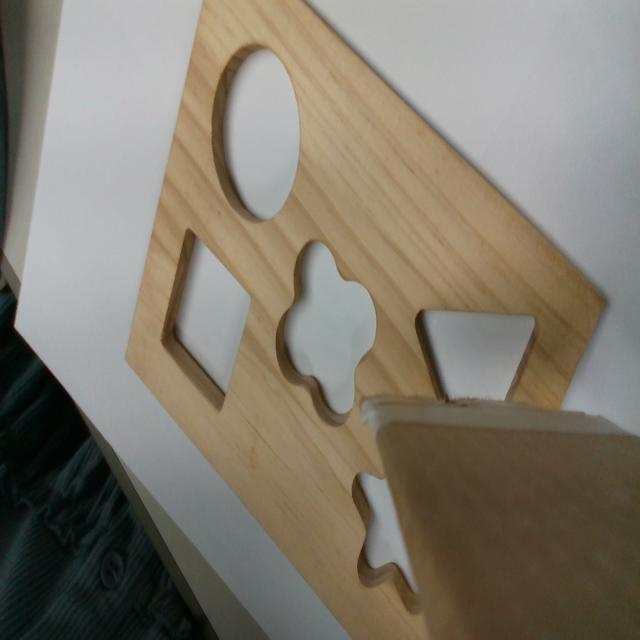circle: (212, 46, 300, 221)
flower: (274, 243, 378, 428)
square: (159, 228, 252, 418)
star: (350, 468, 427, 614)
triangle: (412, 309, 540, 408)
